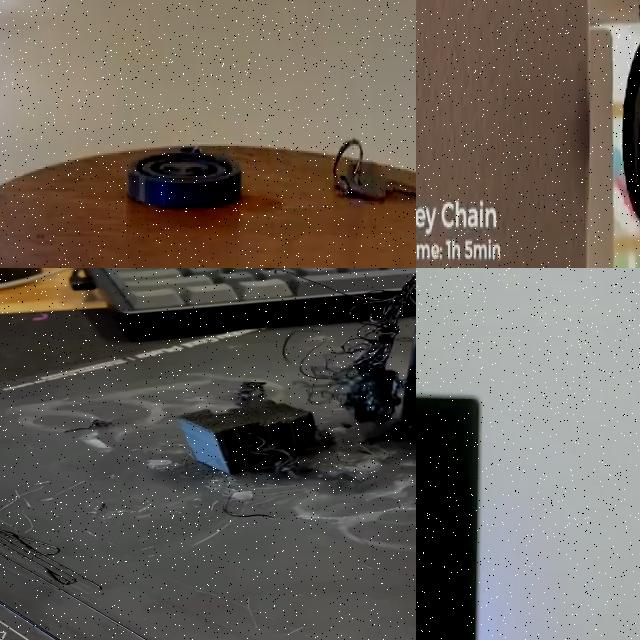spaghetti: (175, 369, 335, 483), (314, 268, 416, 422)
